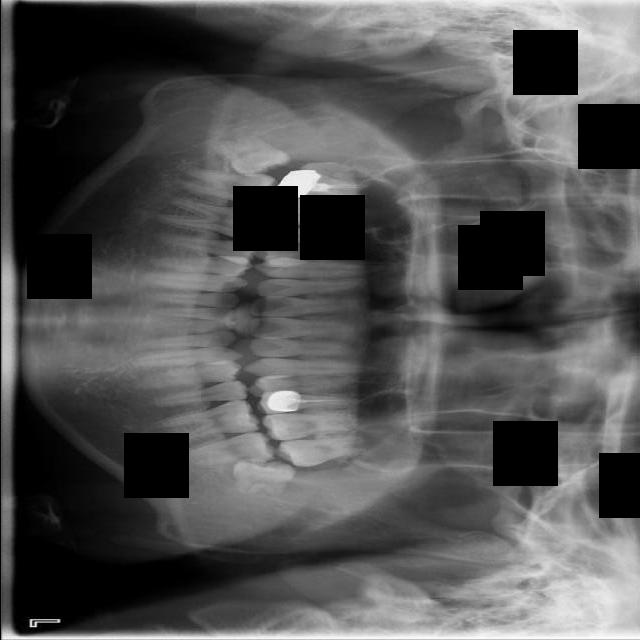52: (256, 191, 309, 233), (273, 169, 320, 199), (261, 412, 308, 442), (254, 388, 301, 416)
73: (301, 171, 370, 201), (296, 393, 365, 412), (74, 590, 78, 603)
BioHorizons Implant: (273, 435, 369, 469)
Biomet 3i Implant: (230, 456, 297, 499)
Blue Sky Bio Implant: (182, 430, 279, 466)
Caries: (273, 168, 370, 200)
Implant: (181, 169, 277, 208)
Keystone Dental Implant: (216, 124, 295, 185)
